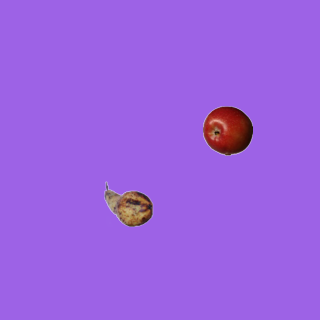Apple Braeburn: (202, 105, 252, 155)
Pear Abate: (103, 179, 153, 229)
